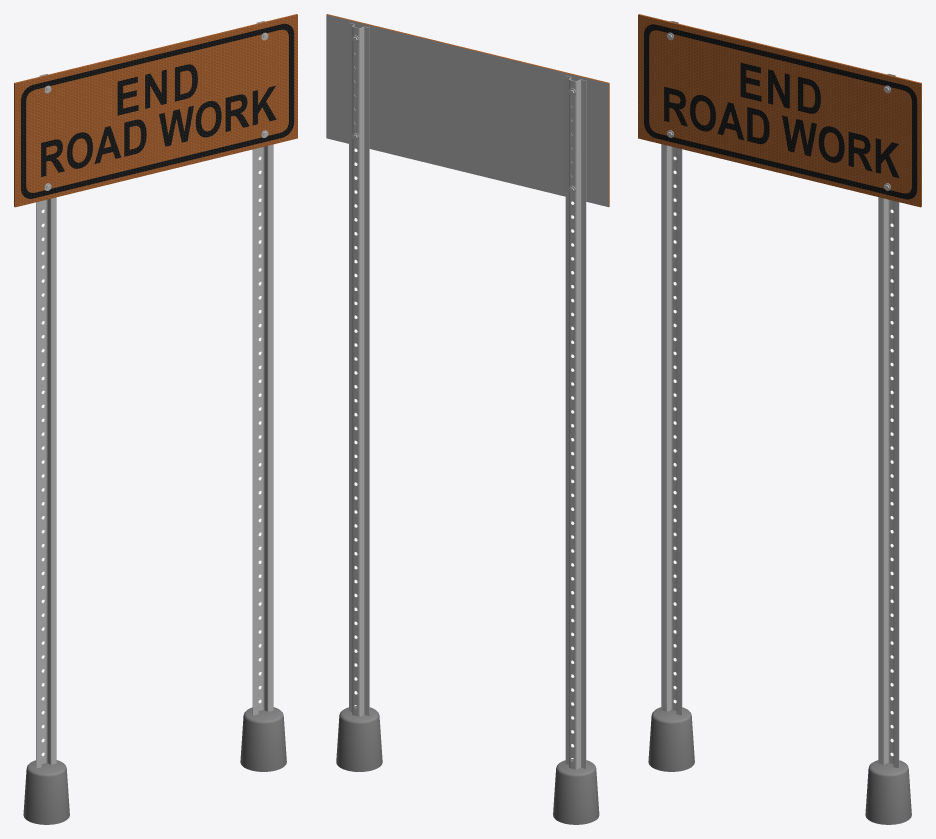
Rendered from stop.gltf.
The picture shows the model from 3 angles, left to right: view 1: azimuth 30°, elevation 25°; view 2: azimuth 150°, elevation 25°; view 3: azimuth 330°, elevation 25°; orthographic projection.
Visible parts, largest first — view 1: 路标69; view 2: 路标69; view 3: 路标69.
Part boxes in pixels (<box>): 路标69: <box>14,14,297,824</box>; 路标69: <box>326,14,609,824</box>; 路标69: <box>638,14,921,824</box>.
Bounding box in the file's own units: 1.04 × 2.61 × 0.1485.
Materials: 3 (1 with a texture image).
